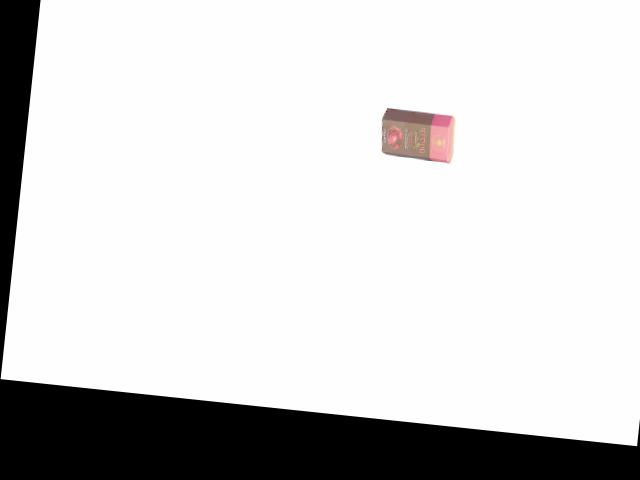chocolate: (371, 105, 459, 164)
